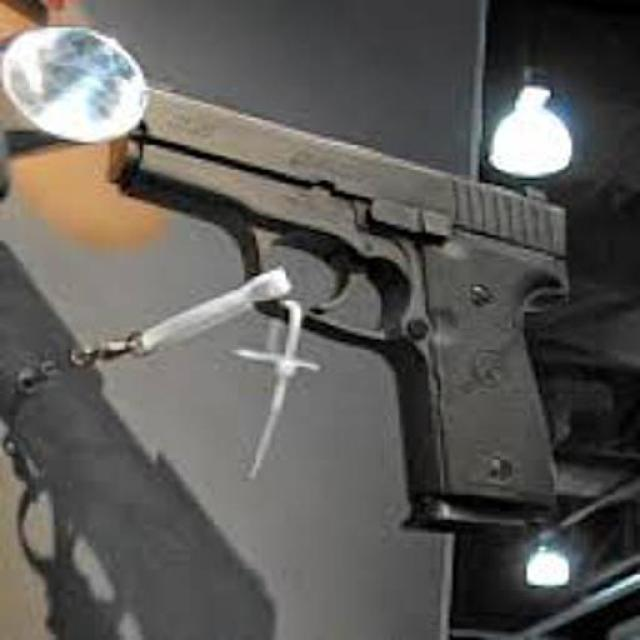pistol: (91, 60, 567, 521)
